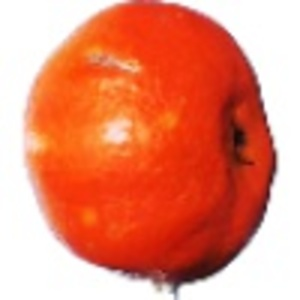tangerina: (20, 1, 281, 300)
